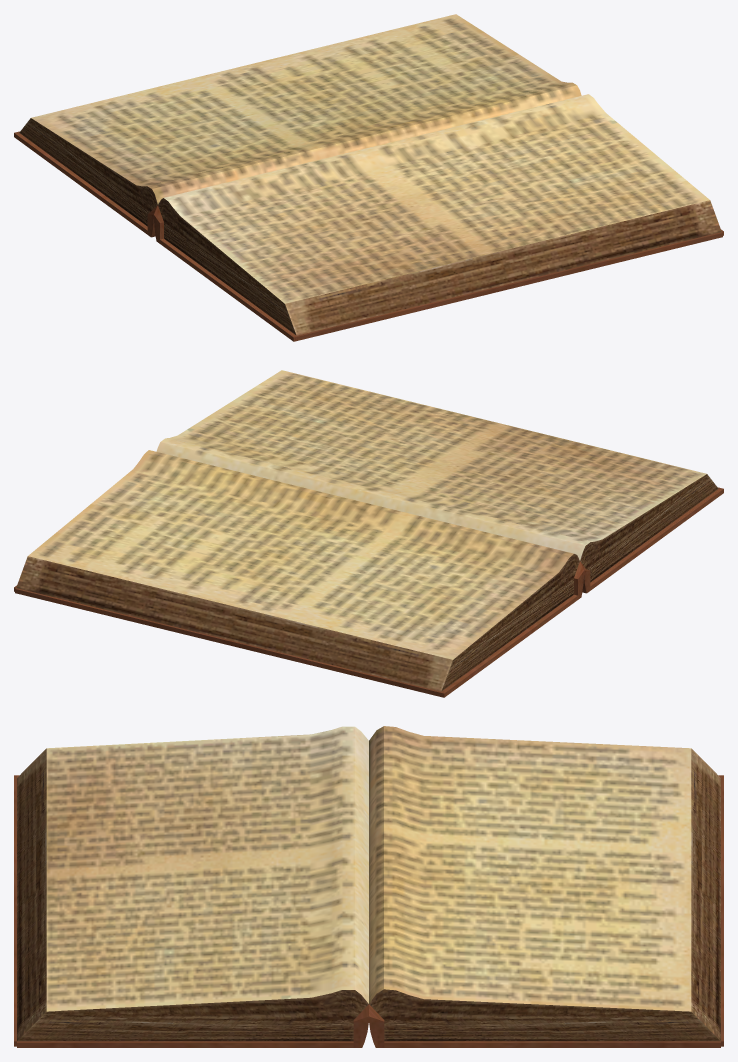
File: Prop_Book_OpenA.fbx
3 views of the same model, one above another, from view 1: azimuth 30°, elevation 25°; view 2: azimuth 150°, elevation 25°; view 3: azimuth 270°, elevation 25° (orthographic). The views are drawn at different scales.
Visible parts, largest first — view 1: Cube_031; view 2: Cube_031; view 3: Cube_031.
Boxes of the visible parts, box(x1,y1,x2,y2) form: Cube_031: box(14, 14, 723, 341); Cube_031: box(14, 370, 723, 697); Cube_031: box(14, 726, 723, 1047).
Bounding box in the file's own units: 1.32 × 0.1318 × 1.48.
